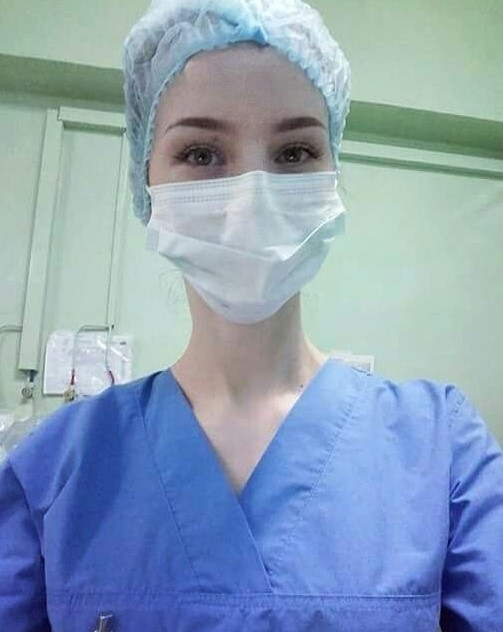face_with_mask: (118, 4, 357, 325)
